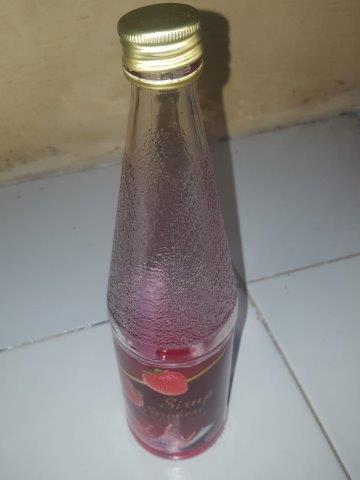botolkaca: (107, 6, 237, 459)
